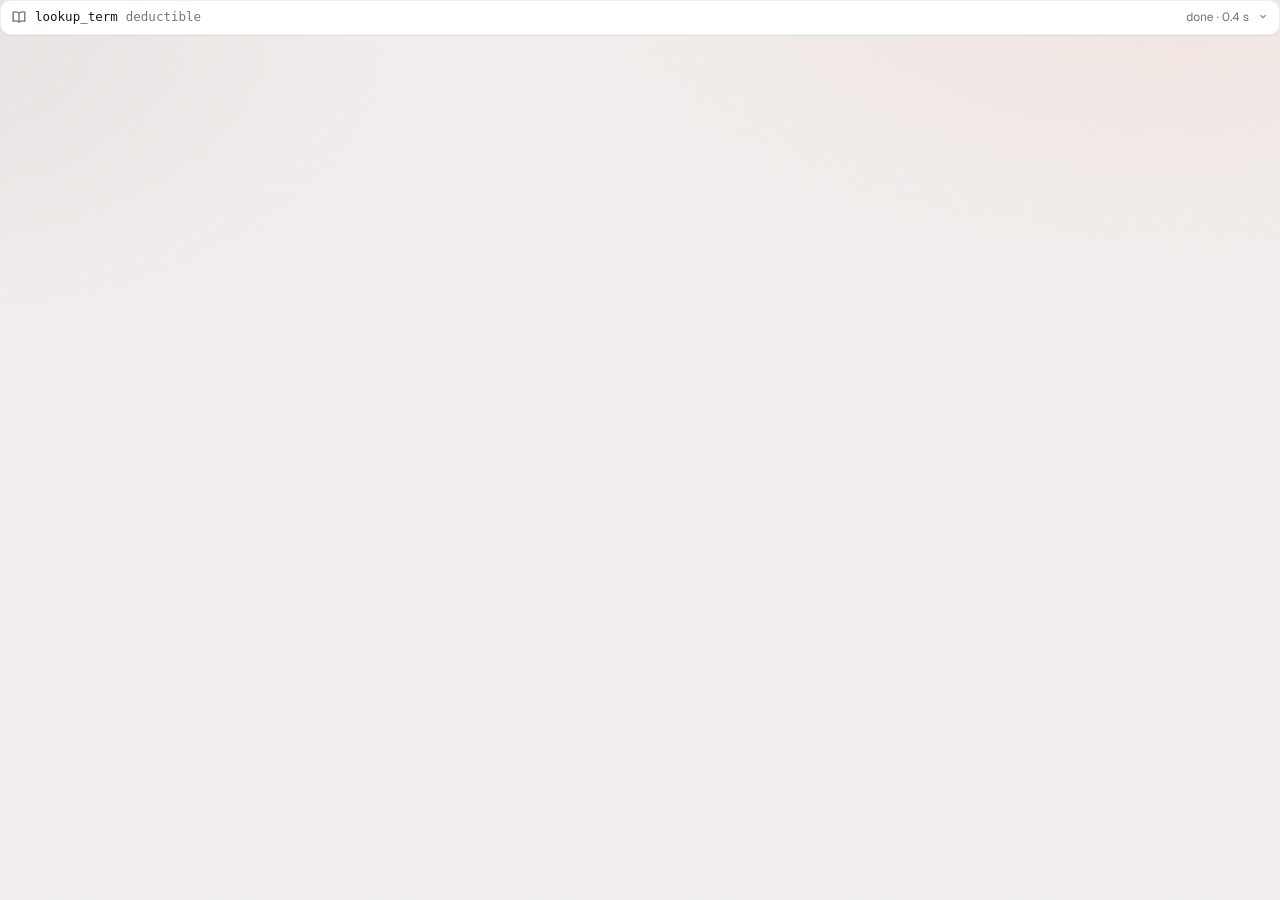
it: a step card › opens to show what was asked and what came back, trimmed, with the file and owner of a context answer
Expected: the text "Asked" is not shown
Click the button "lookup_term deductible done · 0.4 s": {"x": 76, "y": 17} [1,1,1279,34]
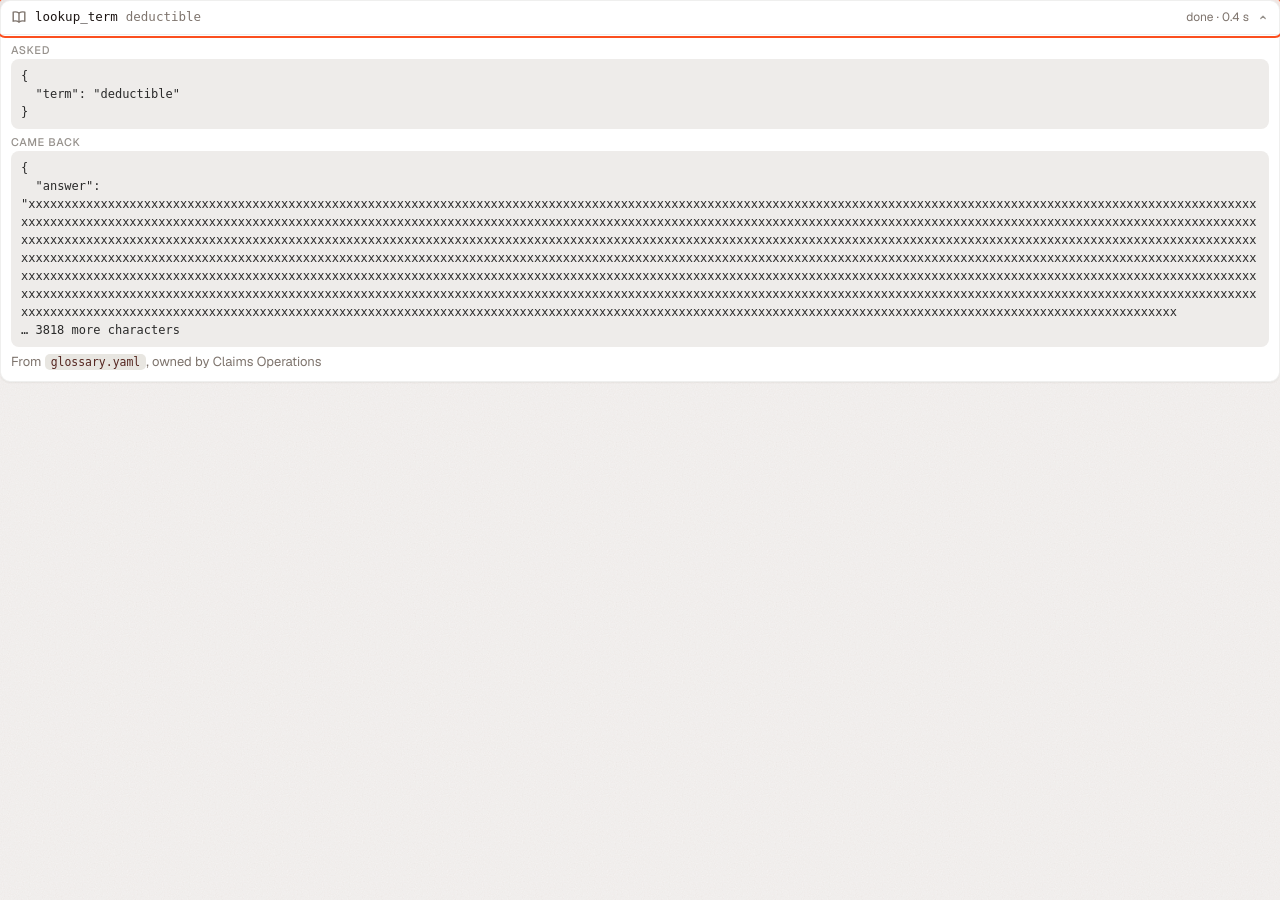
Expected: the text "Asked" is shown, [11,43,50,57]
Expected: the text "{ \"term\": \"deductible\" }" is shown, [11,59,1269,129]
Expected: the text "Came back" is shown, [11,135,80,149]
Click the button "lookup_term deductible done · 0.4 s": {"x": 76, "y": 17} [1,1,1279,34]
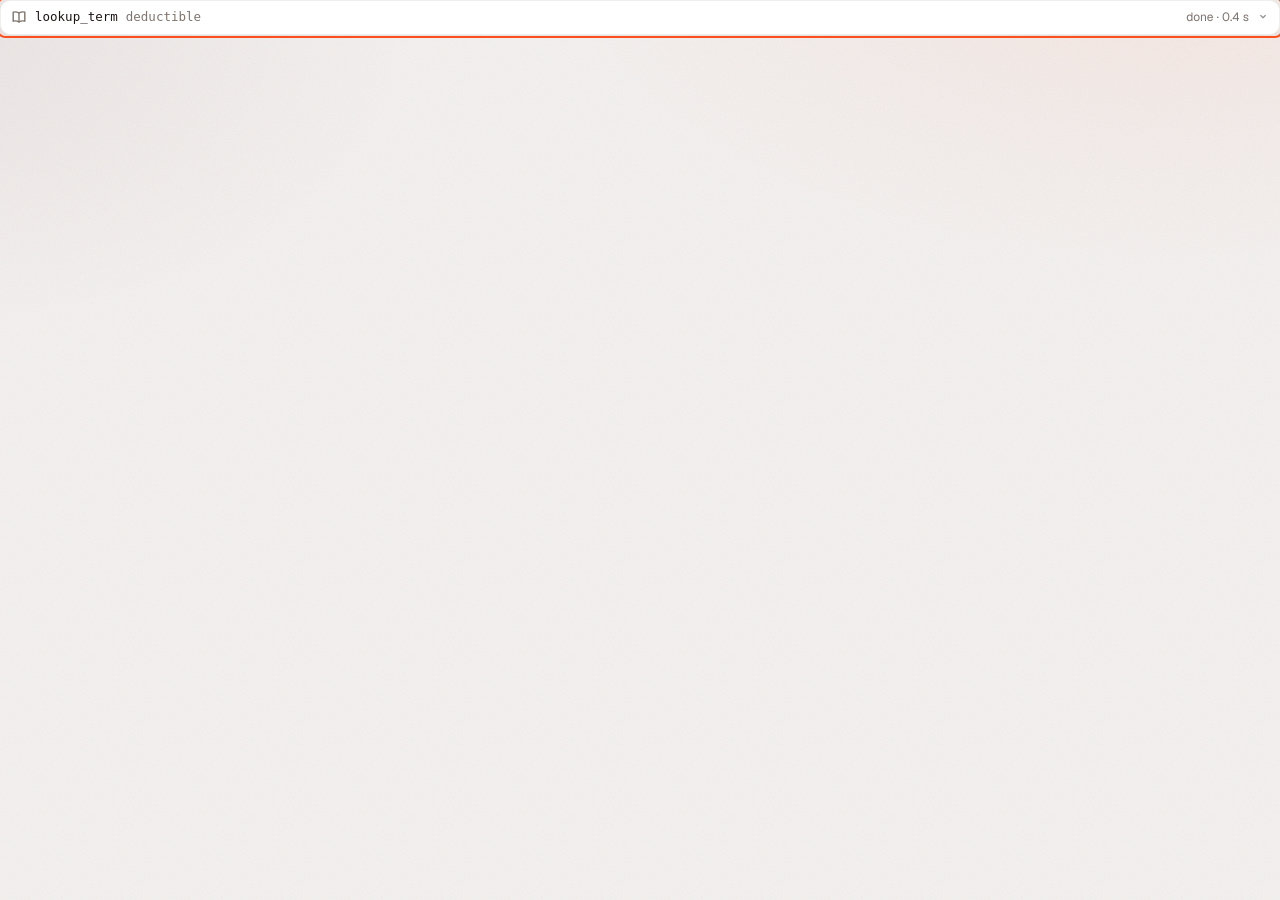
Expected: the text "Asked" is gone
